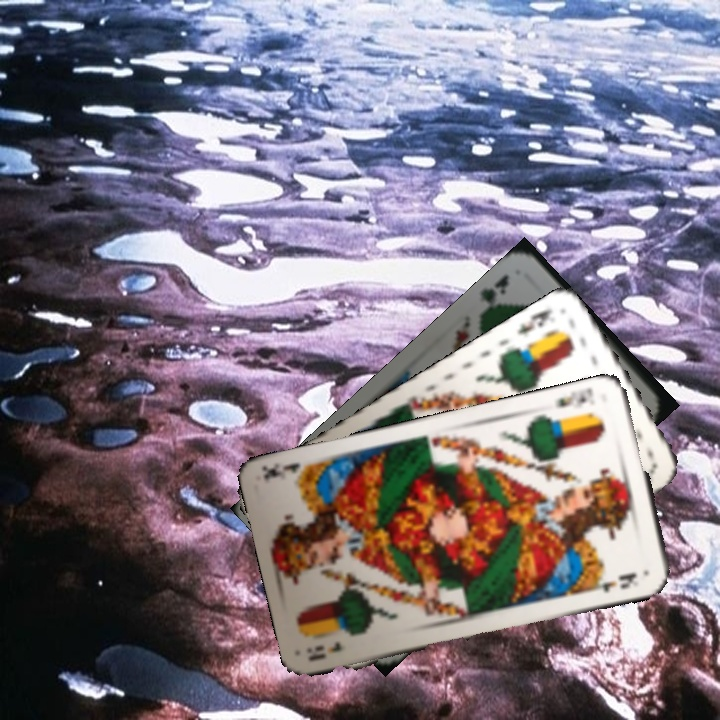EK: (513, 305, 556, 338), (551, 384, 598, 411), (305, 638, 346, 664)
GK: (475, 270, 512, 311)
